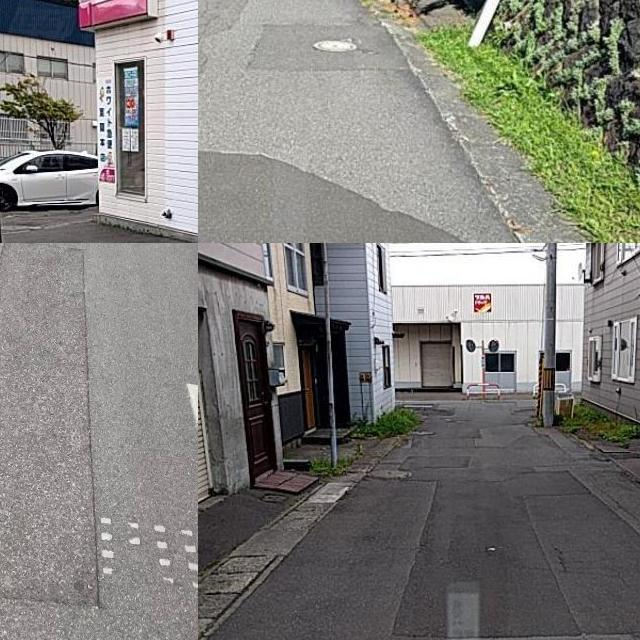Sambungan: (393, 473, 640, 632), (0, 243, 102, 611), (198, 151, 482, 243), (241, 16, 416, 73)
